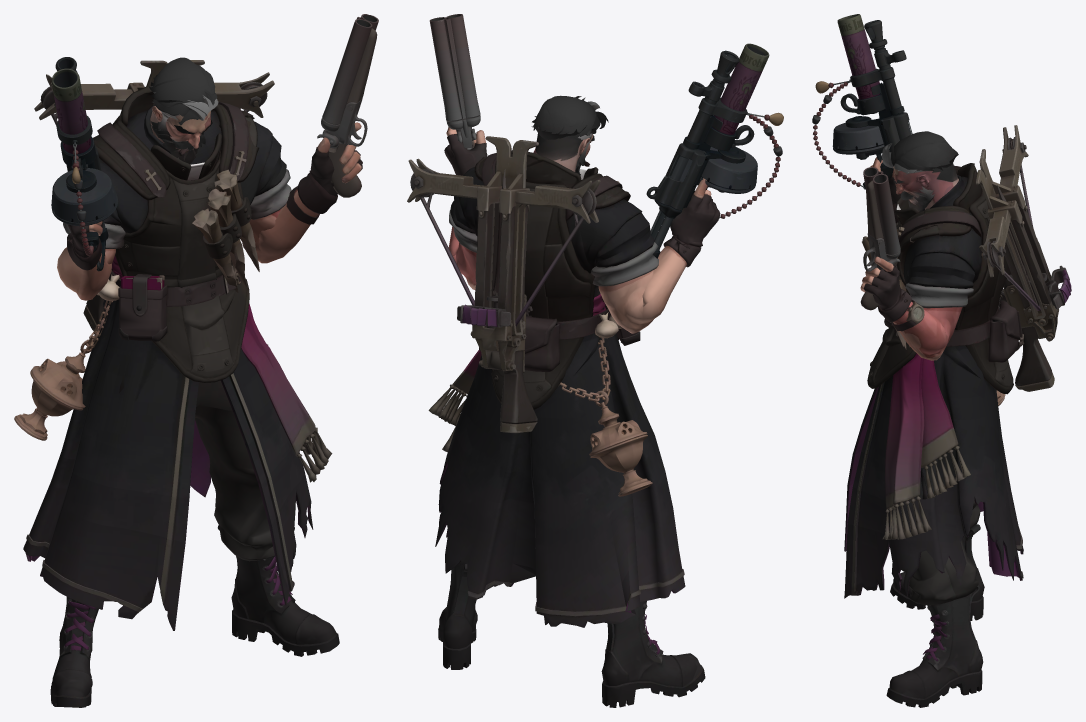
The picture shows the model from 3 angles, left to right: view 1: azimuth 30°, elevation 25°; view 2: azimuth 150°, elevation 25°; view 3: azimuth 270°, elevation 25°; orthographic projection. The views are drawn at different scales.
Visible parts, largest first — view 1: models\heroes_wip\priest\priest.vmdl_c.priest, models\heroes_wip\priest\priest.vmdl_c.head_ui_gritty, models\heroes_wip\priest\priest.vmdl_c.primary_weapon_only, models\heroes_wip\priest\priest.vmdl_c.primary_weapon_drum_o; view 2: models\heroes_wip\priest\priest.vmdl_c.priest, models\heroes_wip\priest\priest.vmdl_c.primary_weapon_only, models\heroes_wip\priest\priest.vmdl_c.head_ui_gritty, models\heroes_wip\priest\priest.vmdl_c.primary_weapon_drum_o; view 3: models\heroes_wip\priest\priest.vmdl_c.priest, models\heroes_wip\priest\priest.vmdl_c.primary_weapon_only, models\heroes_wip\priest\priest.vmdl_c.head_ui_gritty, models\heroes_wip\priest\priest.vmdl_c.primary_weapon_drum_o.
Boxes of the visible parts, x1=… form: models\heroes_wip\priest\priest.vmdl_c.priest: x1=14, y1=14, x2=378, y2=707; models\heroes_wip\priest\priest.vmdl_c.head_ui_gritty: x1=149, y1=57, x2=218, y2=164; models\heroes_wip\priest\priest.vmdl_c.primary_weapon_only: x1=51, y1=57, x2=108, y2=271; models\heroes_wip\priest\priest.vmdl_c.primary_weapon_drum_o: x1=51, y1=168, x2=118, y2=226; models\heroes_wip\priest\priest.vmdl_c.priest: x1=407, y1=14, x2=720, y2=707; models\heroes_wip\priest\priest.vmdl_c.primary_weapon_only: x1=646, y1=43, x2=783, y2=258; models\heroes_wip\priest\priest.vmdl_c.head_ui_gritty: x1=531, y1=95, x2=608, y2=175; models\heroes_wip\priest\priest.vmdl_c.primary_weapon_drum_o: x1=700, y1=146, x2=757, y2=193; models\heroes_wip\priest\priest.vmdl_c.priest: x1=844, y1=125, x2=1071, y2=707; models\heroes_wip\priest\priest.vmdl_c.primary_weapon_only: x1=812, y1=14, x2=912, y2=189; models\heroes_wip\priest\priest.vmdl_c.head_ui_gritty: x1=882, y1=131, x2=958, y2=211; models\heroes_wip\priest\priest.vmdl_c.primary_weapon_drum_o: x1=832, y1=119, x2=884, y2=154.
Size of the model in its own units: 1.48 by 2.78 by 1.14.
10 materials, 10 textured.
